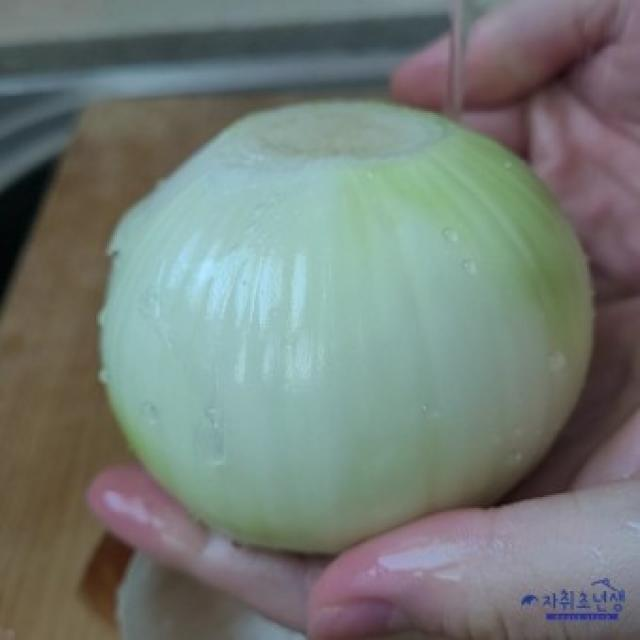Onion: (95, 99, 598, 550)
